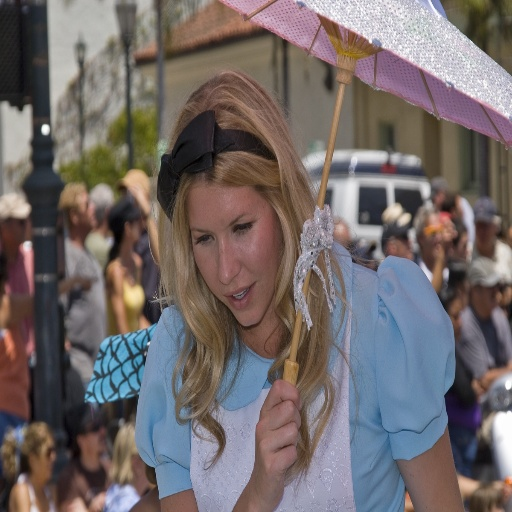hand: (248, 380, 301, 480), (431, 242, 445, 265)
